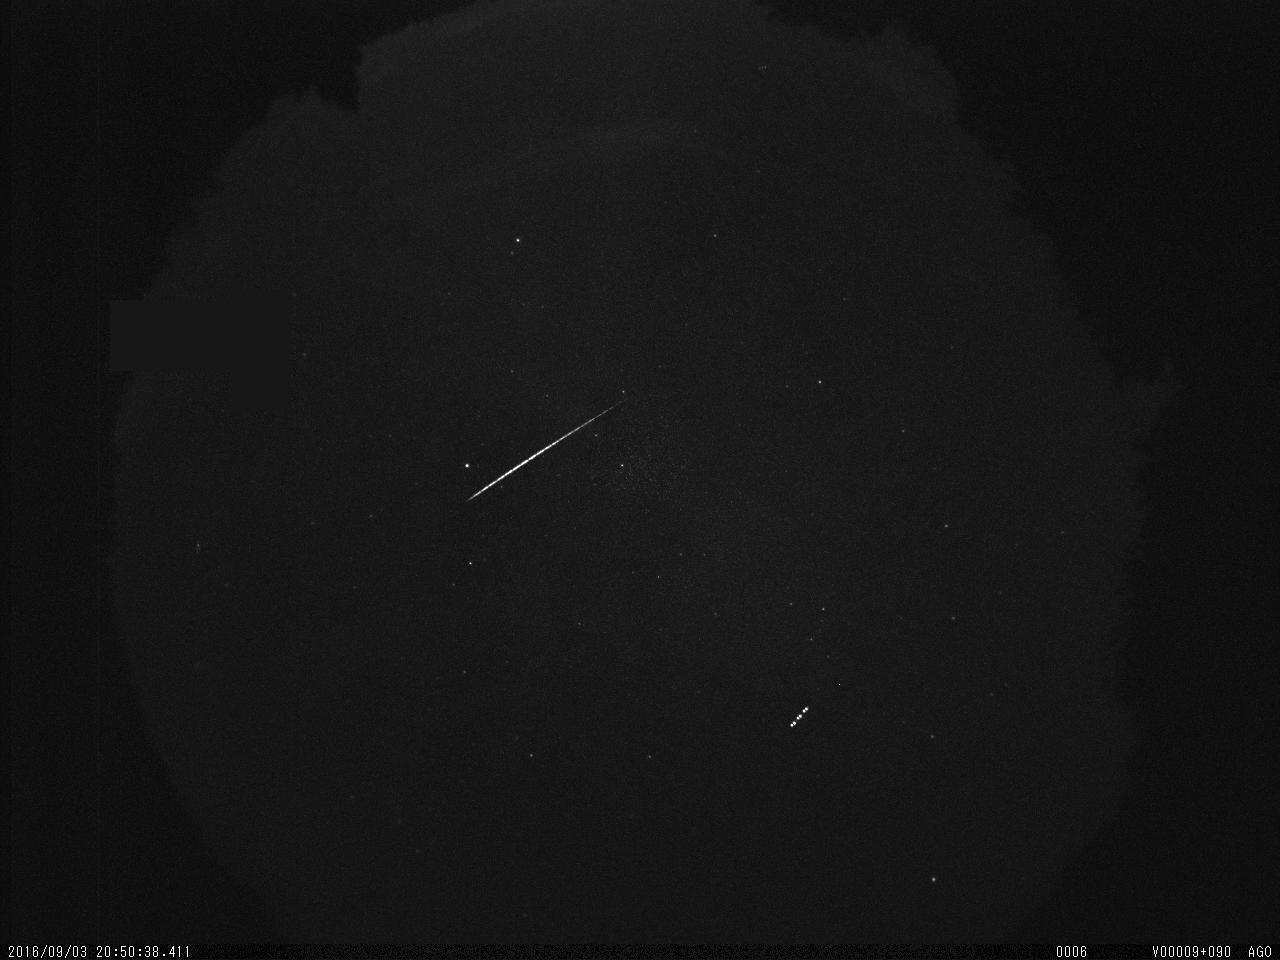Meteor: (463, 389, 626, 503)
